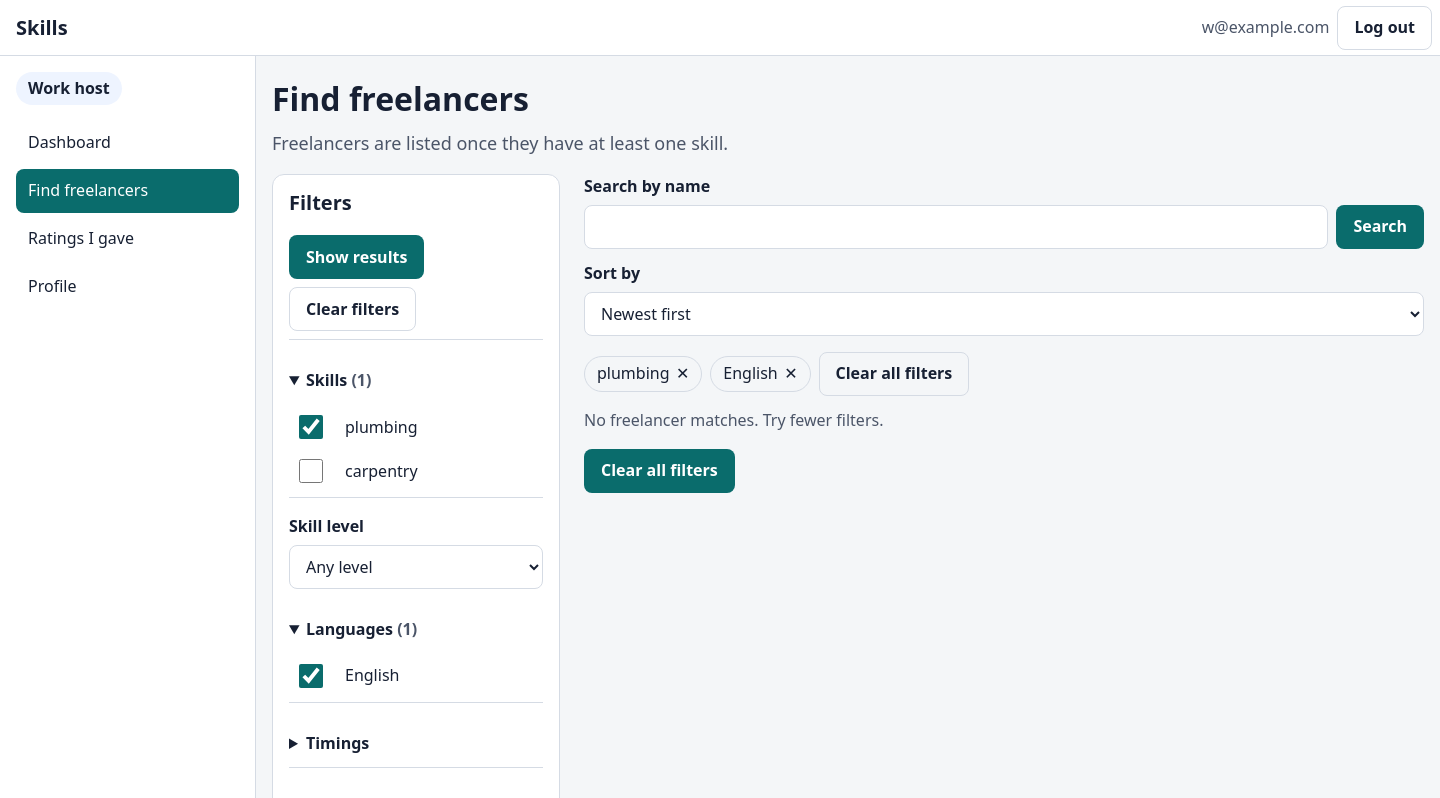
Test case: search › removes one filter from its chip and offers to clear everything when nothing matches
Check: the text "No freelancer matches. Try fewer filters." is shown, box [584, 409, 884, 431]
Check: the number of buttons "Clear all filters" is 2, box [818, 352, 969, 396]; [584, 449, 735, 493]
Click the button with aria-label "Remove filter: English" at (760, 374), box [710, 356, 810, 392]
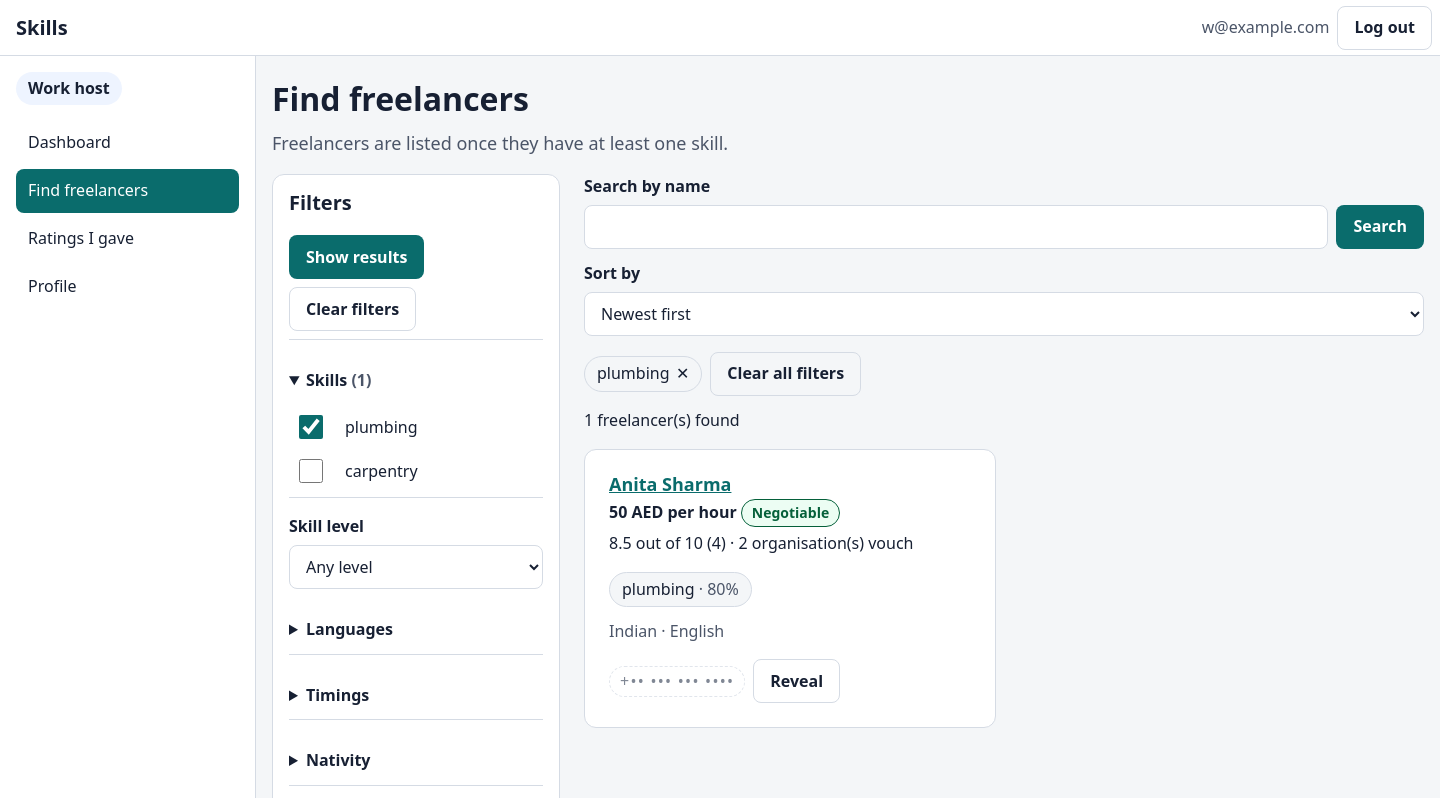
Check: the text "1 freelancer(s) found" is shown, box [584, 409, 740, 431]
